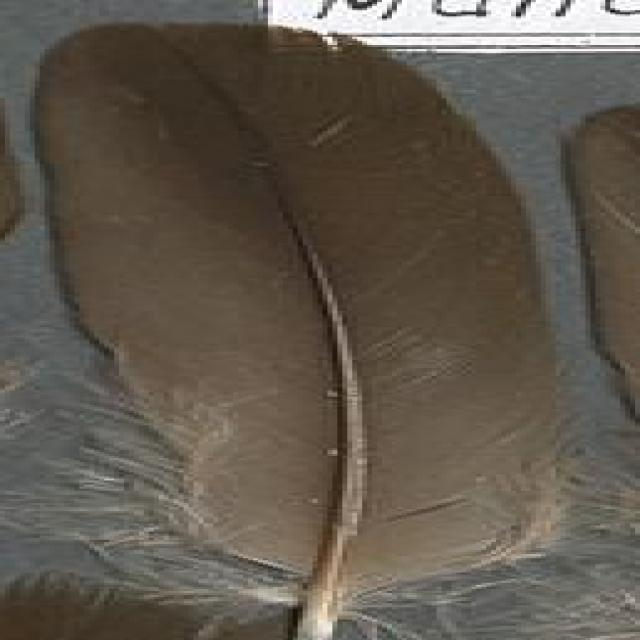feather: (25, 20, 574, 640)
